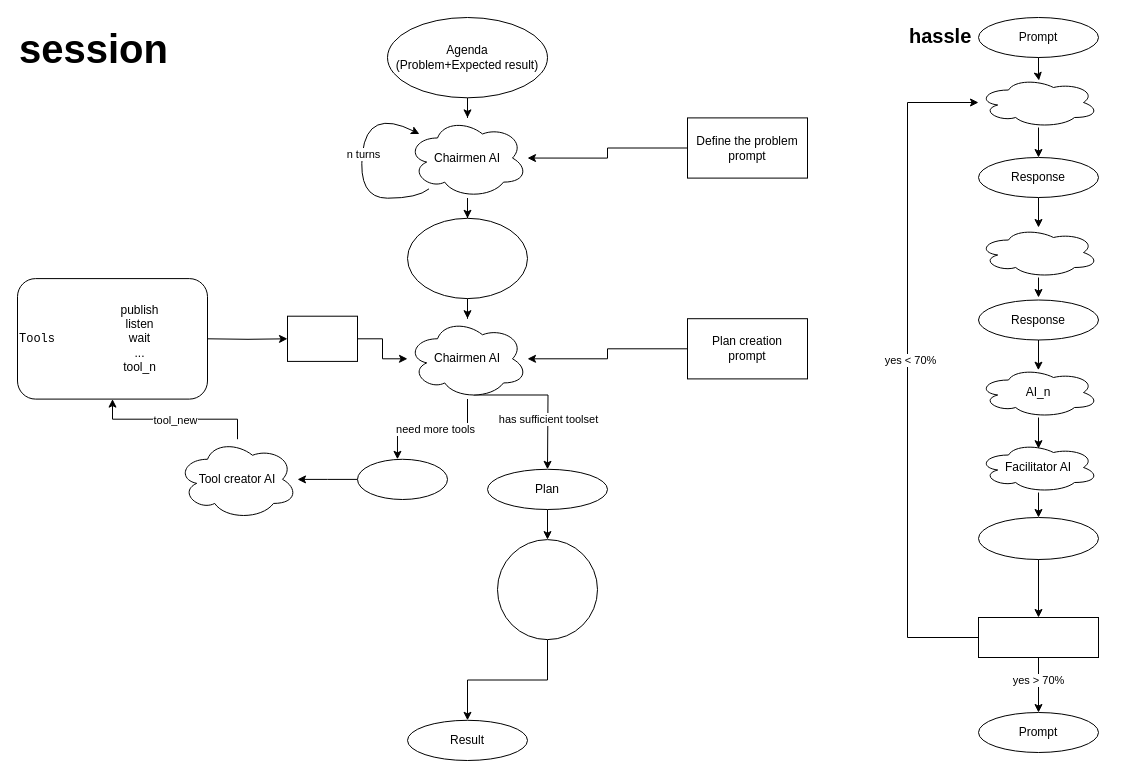
Some shapes in this 1125 by 778 pixel diagram are drawn without their labels. The shapes that lost their labels are listed below. From the top down, each one's centre as x and y in pixels, then its label:
point (1038, 102): AI_1
point (467, 258): Problem definition
point (1038, 252): AI_2
point (322, 338): tool list prompt
point (402, 479): Tool description
point (1038, 538): Summary
point (547, 589): Plan steps execution (involving tool calling)
point (1038, 637): "are we satisfied?" prompt to all
